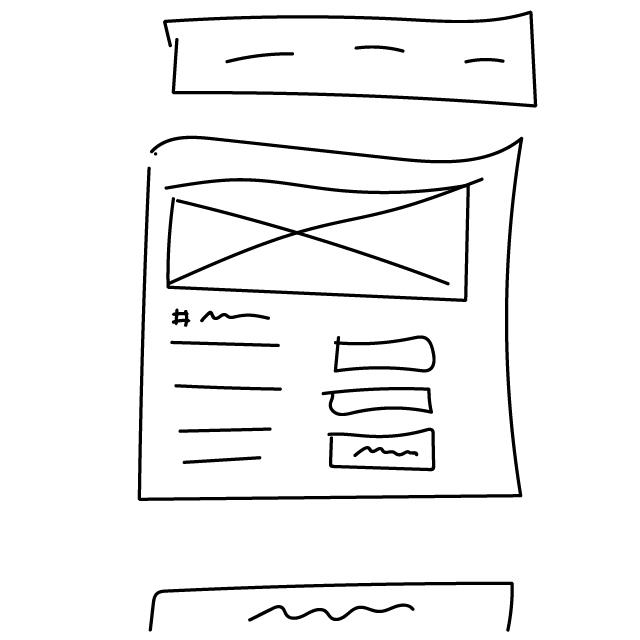button: (325, 428, 445, 473)
container: (131, 129, 548, 530)
footer: (140, 569, 529, 638)
frame: (165, 174, 484, 303)
heading: (171, 303, 272, 335)
input: (330, 334, 440, 379), (322, 385, 438, 421)
nav: (159, 10, 544, 115)
text: (166, 338, 306, 479)
